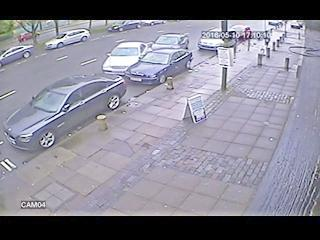Car: (13, 78, 126, 142), (128, 50, 191, 83), (106, 40, 150, 75), (201, 27, 237, 51), (48, 30, 88, 47), (152, 35, 192, 51), (1, 45, 34, 64), (107, 22, 141, 32), (230, 24, 252, 39)
Minor Accident: (104, 45, 192, 82)
